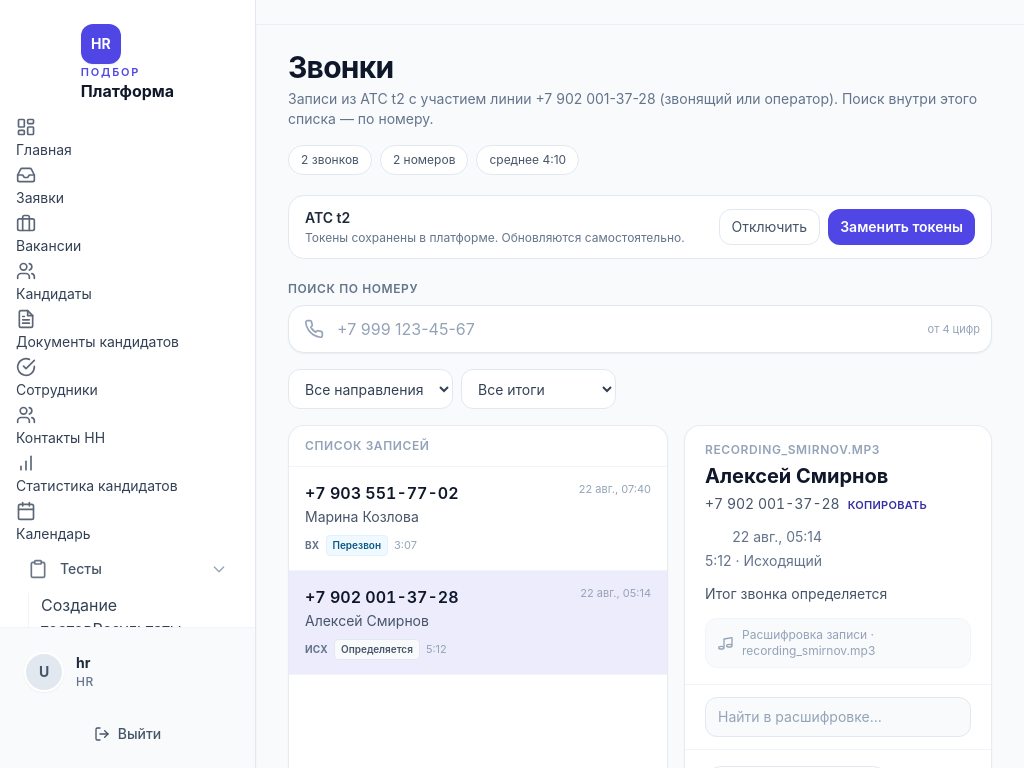
Test case: CallsPage › opens another transcript from the mocked list
Click the button with test id "call-row-1002": (382,493) [289,467,667,571]
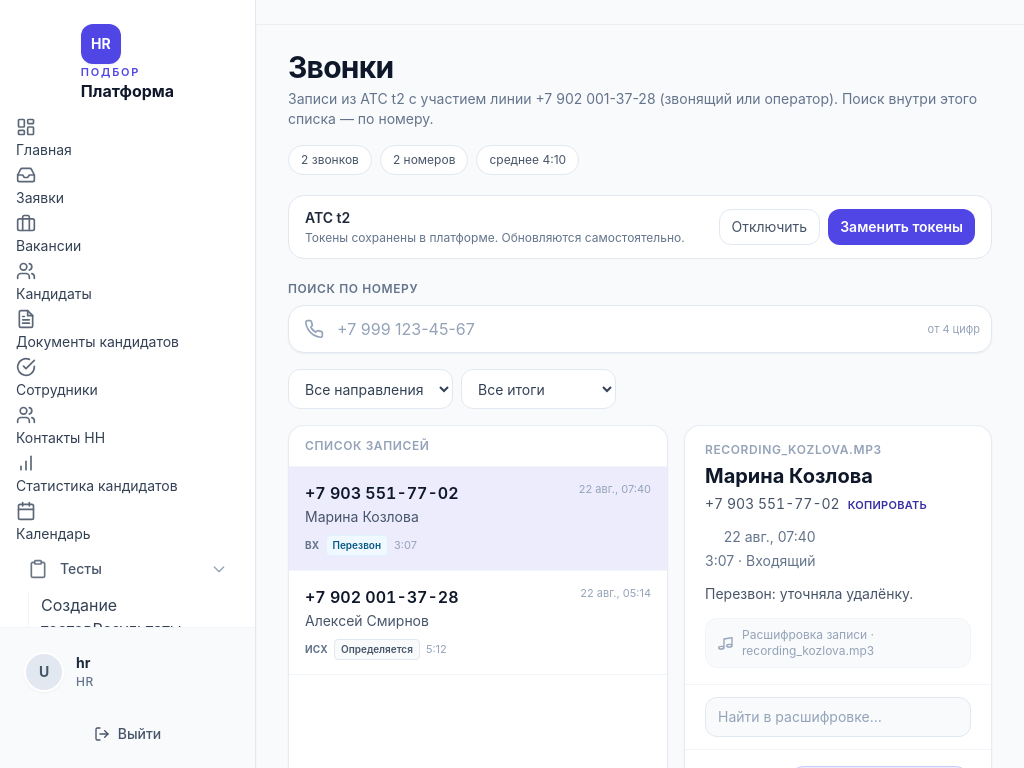
Check: the element with test id "call-detail-phone" shows "+7 903 551-77-02", box [705,495,840,512]
